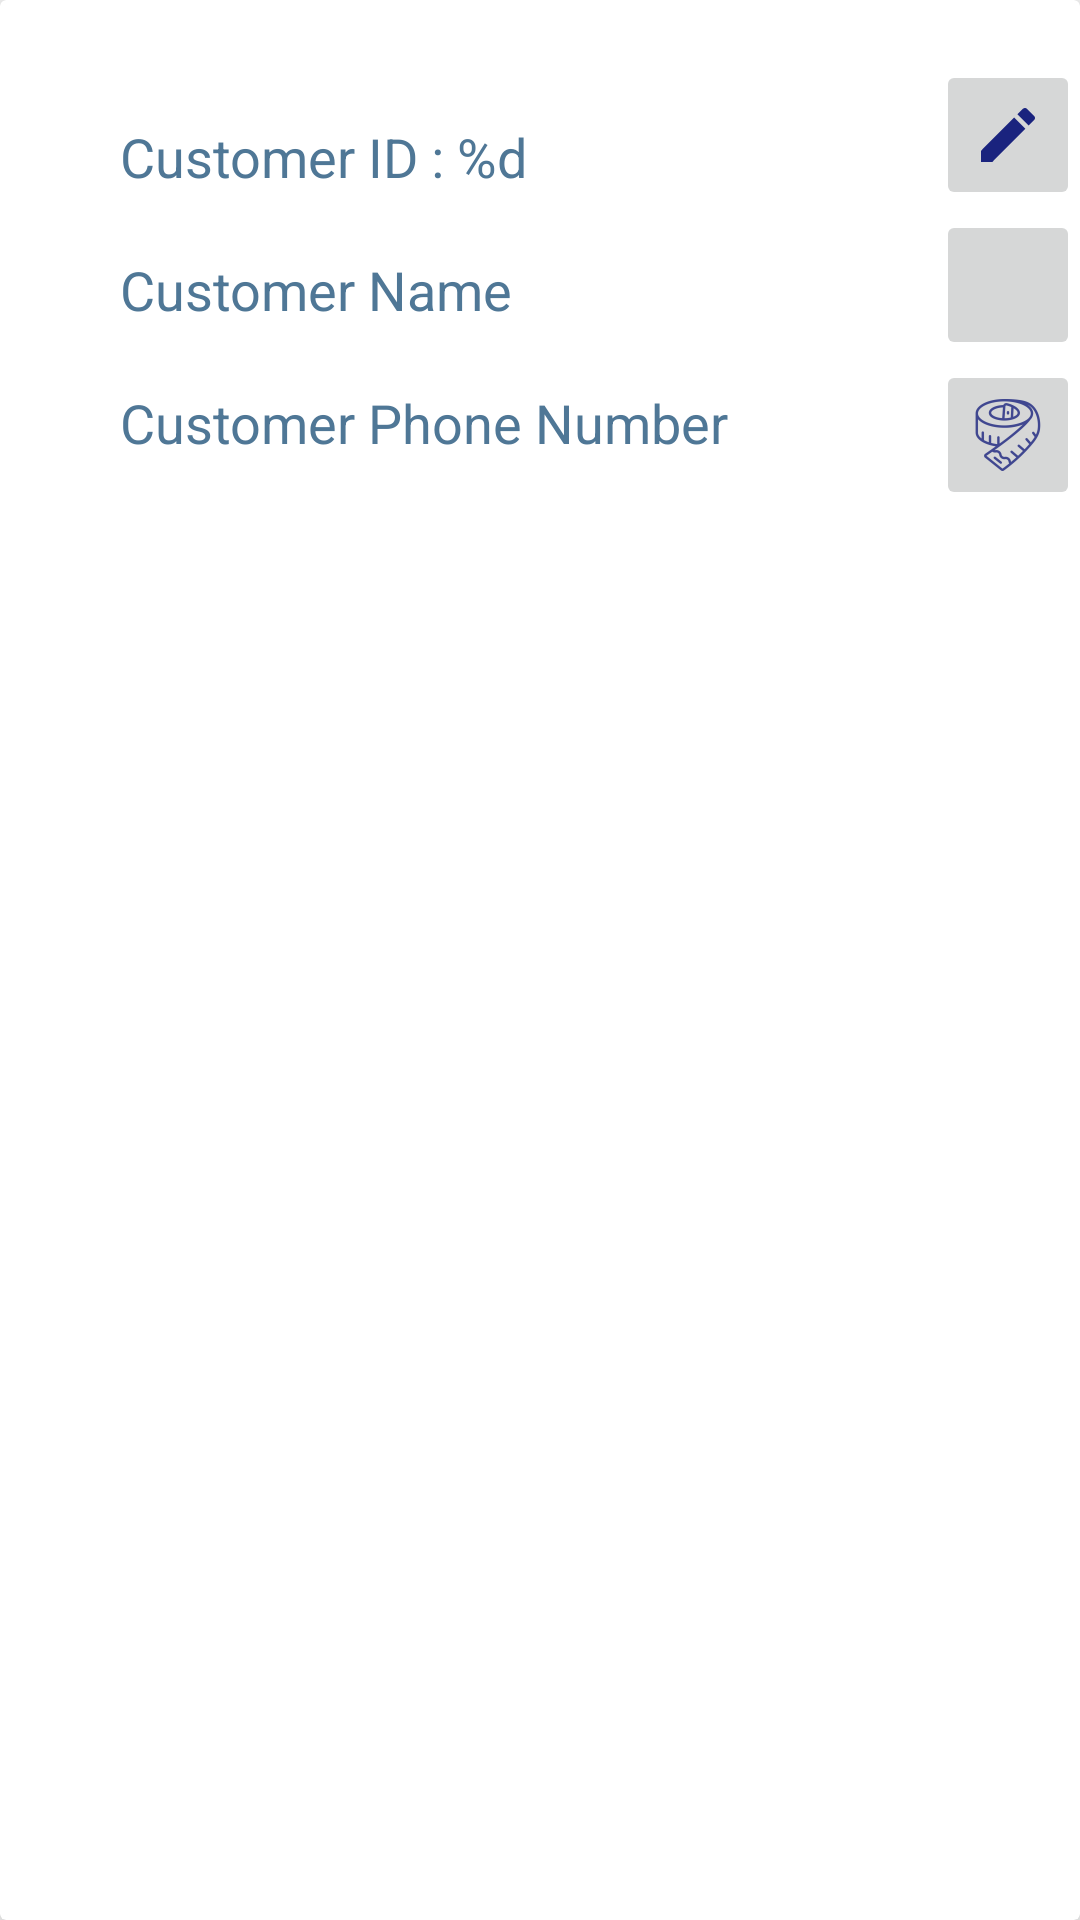

Screen size 1080 × 1920. Icon name, then its box in pixels as (x1, y1, x2, y2):
Edit Customers: (948, 78, 1068, 192)
Edit Customers Sizes: (948, 378, 1068, 492)
